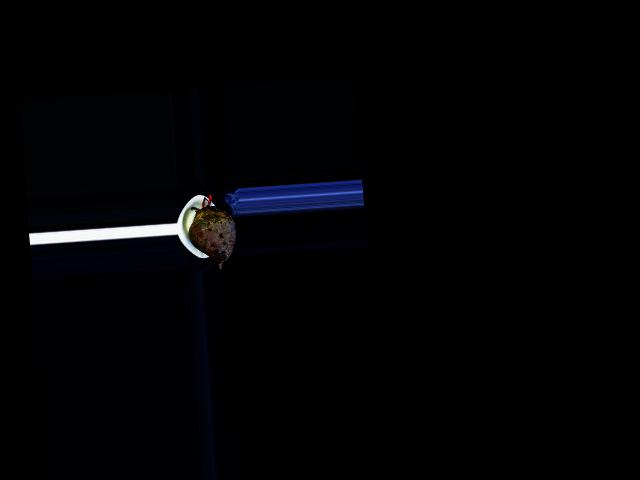beet: (185, 192, 237, 270)
